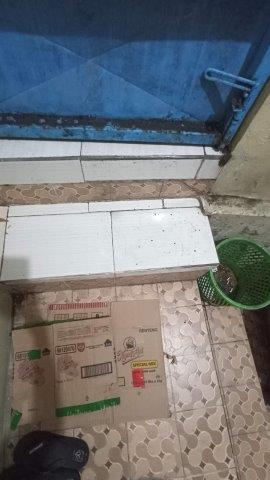kardus: (12, 301, 169, 430)
